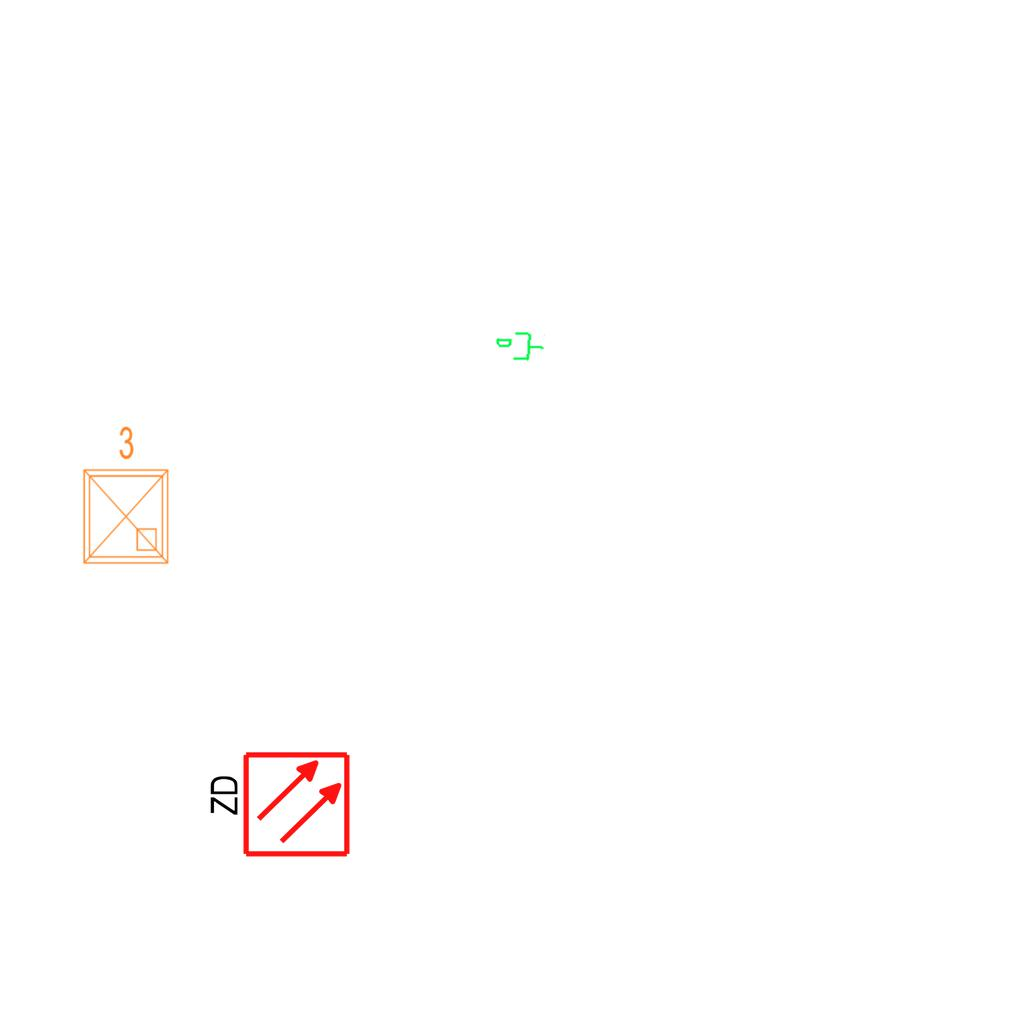Datenanschluss_einfach: (493, 328, 547, 366)
Einbaudownlights_LED_Konferenzraeume: (72, 421, 176, 571)
ZD_Melder_in_Zwischendecke_mit_Revisionsoeffnung_mind_40_x_40_cm: (203, 749, 352, 863)
